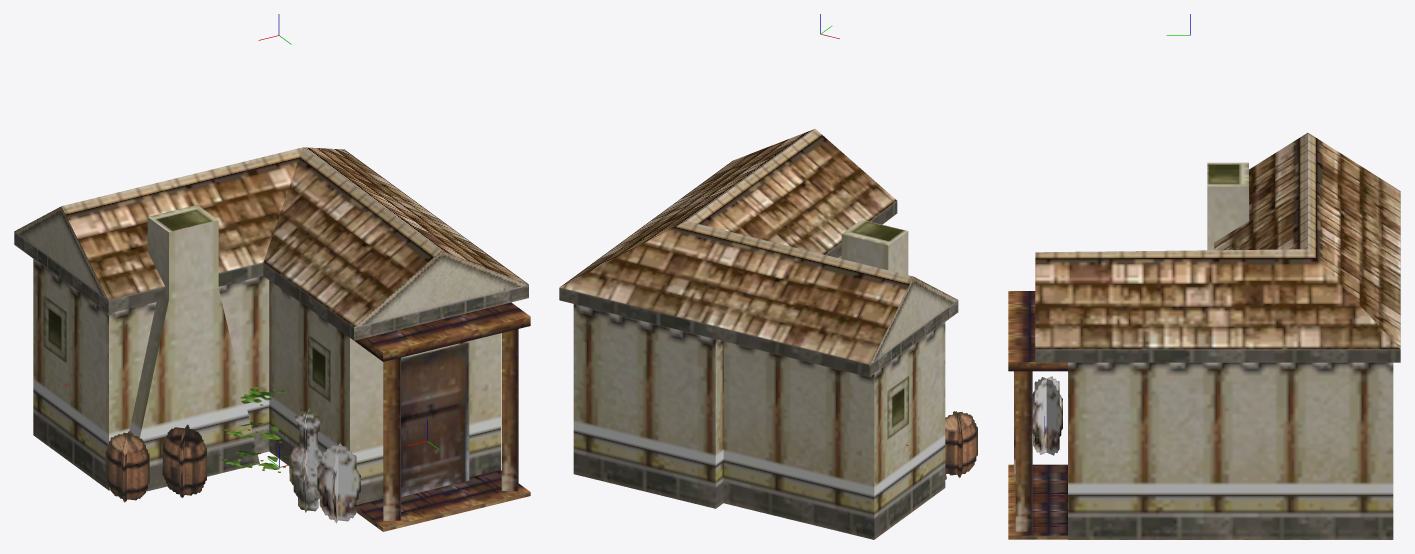
Rendered from greek-house-c-age0.glb.
The picture shows the model from 3 angles, left to right: view 1: azimuth 30°, elevation 25°; view 2: azimuth 150°, elevation 25°; view 3: azimuth 270°, elevation 25°; orthographic projection. The views are drawn at different scales.
Visible parts, largest first — view 1: building g housec age0Model; view 2: building g housec age0Model; view 3: building g housec age0Model.
Boxes of the visible parts, <box> form: building g housec age0Model: <box>14,147,530,531</box>; building g housec age0Model: <box>559,129,977,539</box>; building g housec age0Model: <box>1008,133,1400,539</box>.
Bounding box in the file's own units: 4.06 × 5.25 × 4.16.
Materials: 4 (3 with a texture image).
